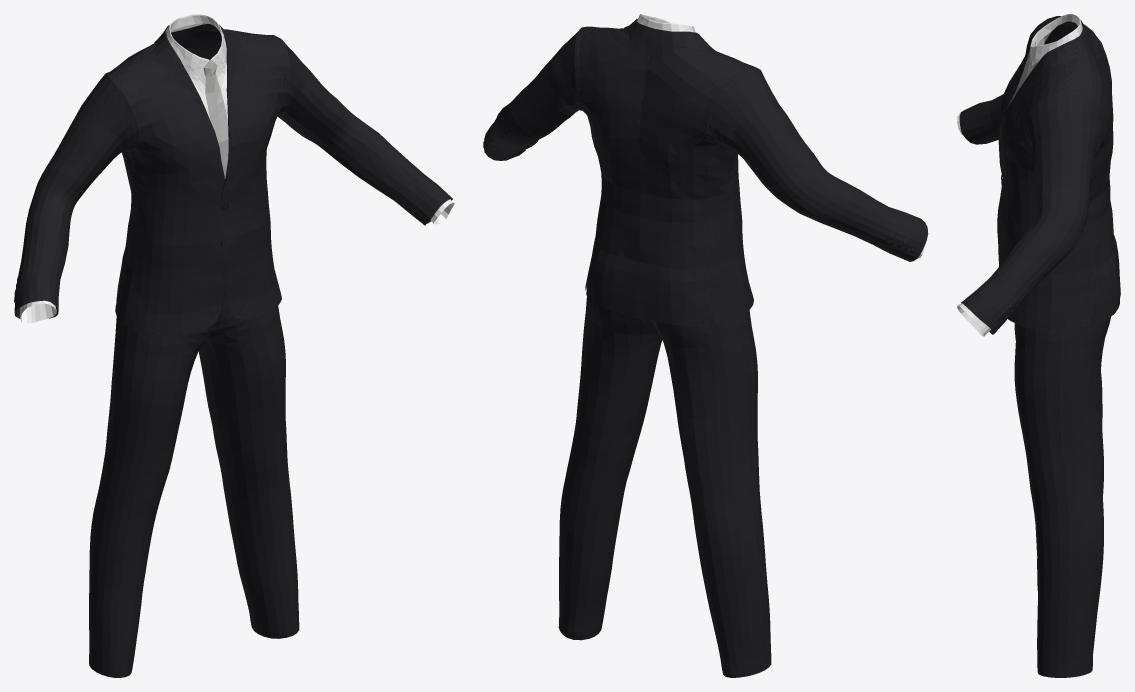
File: mhw_mindfront_m_suit_01.glb
The picture shows the model from 3 angles, left to right: view 1: azimuth 30°, elevation 25°; view 2: azimuth 150°, elevation 25°; view 3: azimuth 270°, elevation 25°; orthographic projection. The views are drawn at different scales.
Parts seen in each view (by area): view 1: mhw_mindfront_m_suit_01; view 2: mhw_mindfront_m_suit_01; view 3: mhw_mindfront_m_suit_01.
Part boxes in pixels (left/top/right/bottom): mhw_mindfront_m_suit_01: left=14, top=14, right=454, bottom=677; mhw_mindfront_m_suit_01: left=483, top=14, right=928, bottom=677; mhw_mindfront_m_suit_01: left=957, top=14, right=1120, bottom=677.
Bounding box in the file's own units: 1.13 × 1.57 × 0.3794.
Materials: 1 (1 with a texture image).
